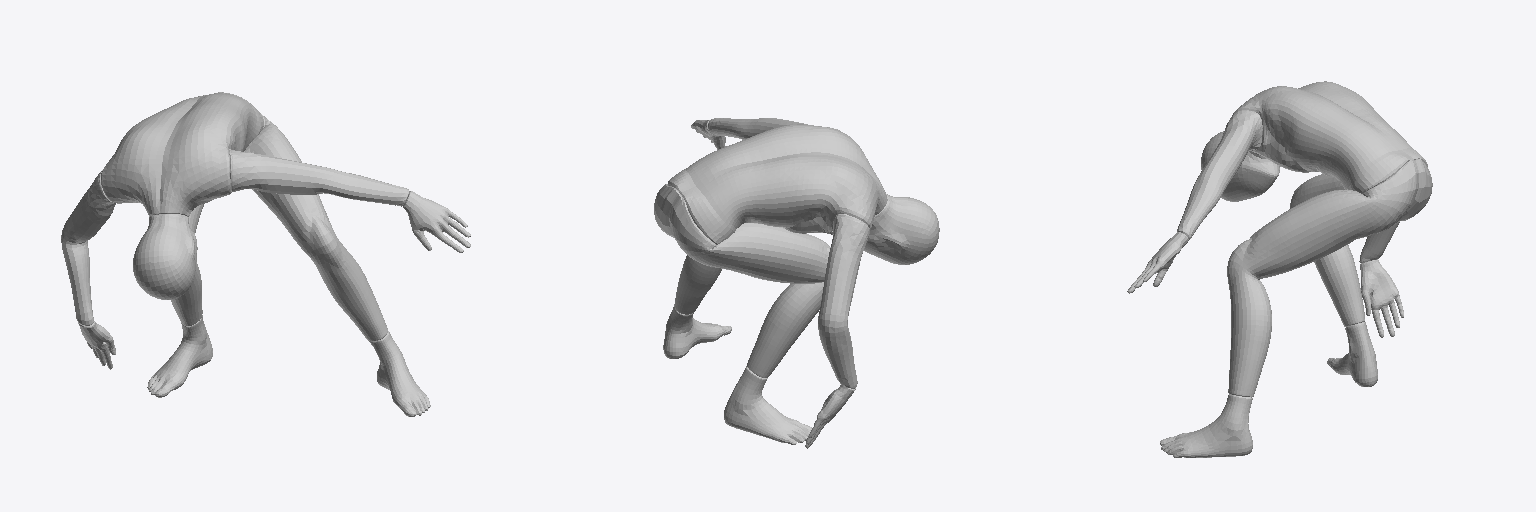
The model's file is standup61.obj.
The picture shows the model from 3 angles: view 1: azimuth 30°, elevation 25°; view 2: azimuth 150°, elevation 25°; view 3: azimuth 270°, elevation 25°; orthographic projection.
Parts seen in each view (by area): view 1: Ch36; view 2: Ch36; view 3: Ch36.
Part boxes in pixels (bbox=[...]): Ch36: bbox=[61, 92, 470, 416]; Ch36: bbox=[654, 118, 939, 448]; Ch36: bbox=[1127, 81, 1432, 457].
Bounding box in the file's own units: 0.9016 × 0.8561 × 0.8286.